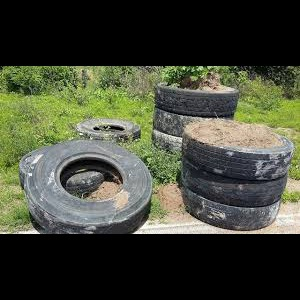tire: (24, 141, 153, 233), (183, 122, 293, 182), (17, 147, 114, 200), (179, 161, 287, 205), (179, 188, 282, 230), (156, 82, 238, 118), (151, 108, 236, 141), (76, 119, 143, 147)
